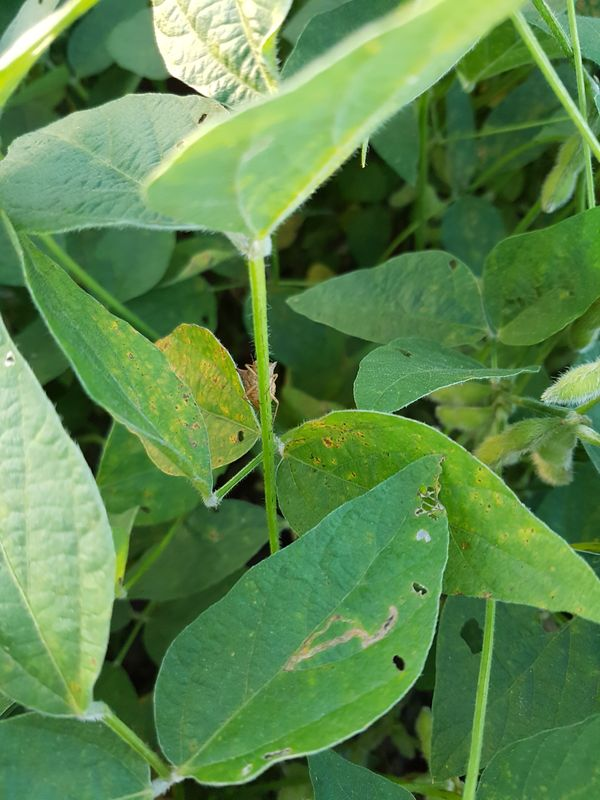Euschistus_heros_adulto: (229, 349, 287, 422)
